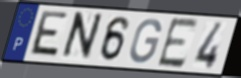4: (192, 21, 223, 71)
6: (98, 15, 131, 63)
E: (155, 16, 201, 70), (26, 9, 70, 60)
G: (128, 17, 163, 65)
N: (58, 11, 106, 63)
